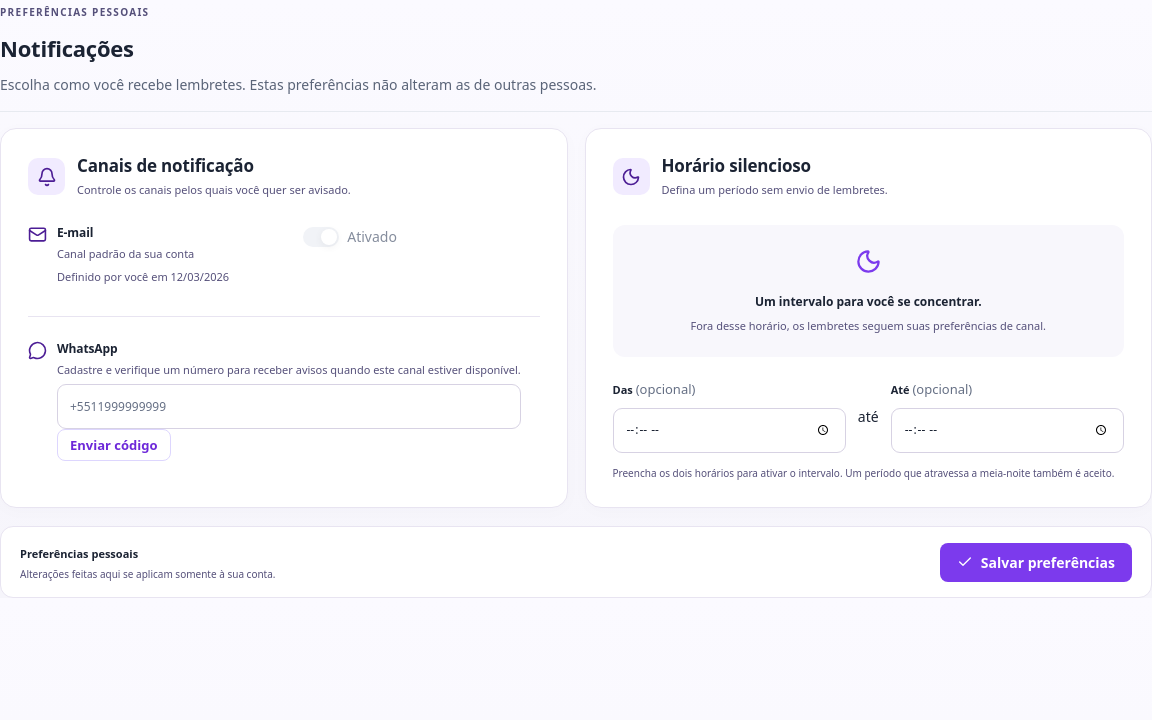
Test: NotificationPreferences (A18, Block 8) › keeps the conflict notice and Save disabled (never silently clears it) when 'Recarregar' itself fails
This screenshot has width=1152, height=720.
Expected: the switch labelled "Ativado" is shown, [303,225,397,249]
Click the button "Salvar preferências" at [1036, 562], box [940,543,1132,582]
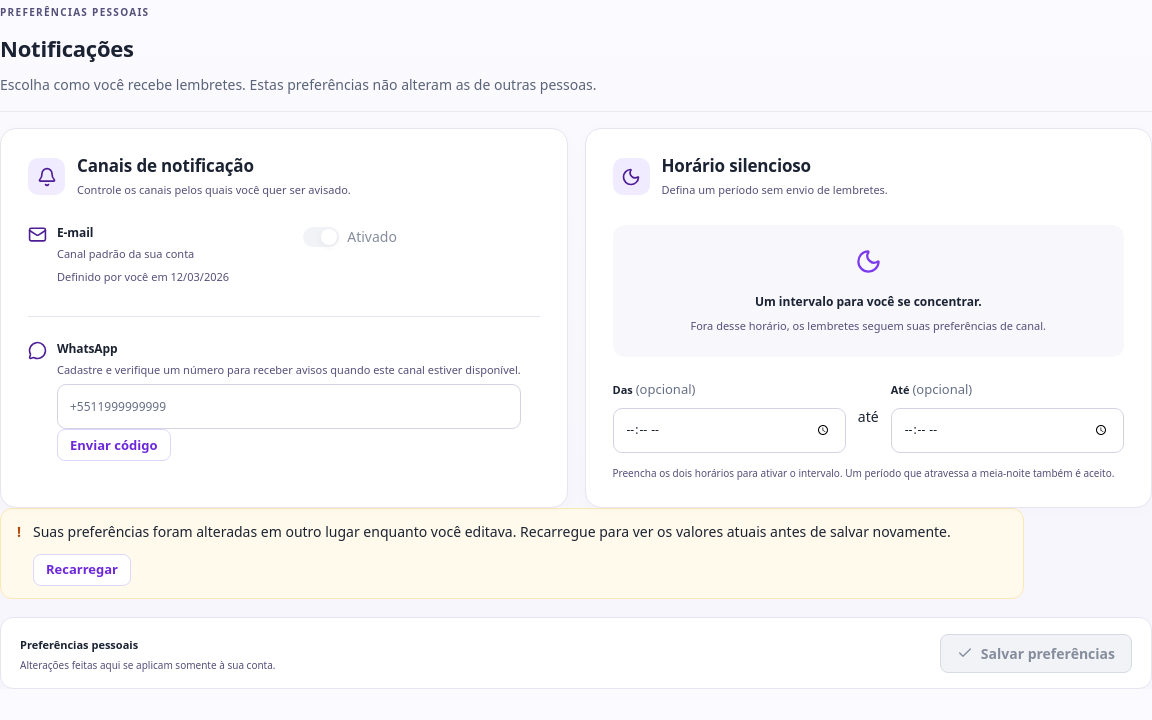
Now the button "Recarregar" is shown
Click the button "Recarregar" at [82, 570], box [33,554,131,586]
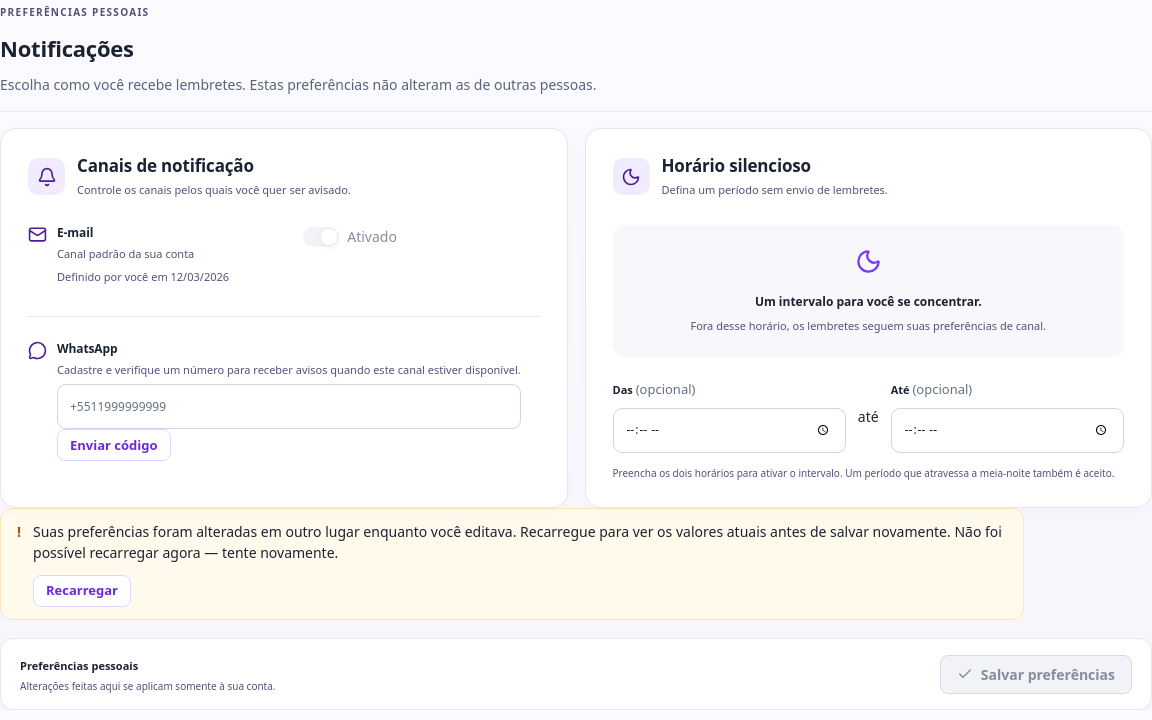
Now the button "Salvar preferências" is disabled, box [940,655,1132,694]
Now the text "Não foi possível recarregar agora" is shown, box [33,522,1002,562]
